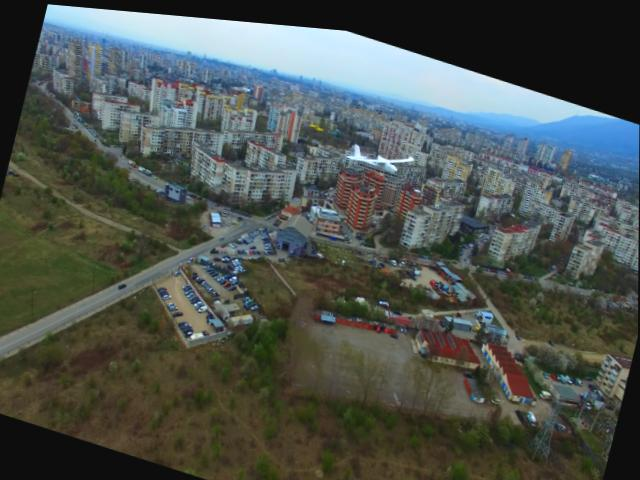plane: (343, 131, 416, 171)
